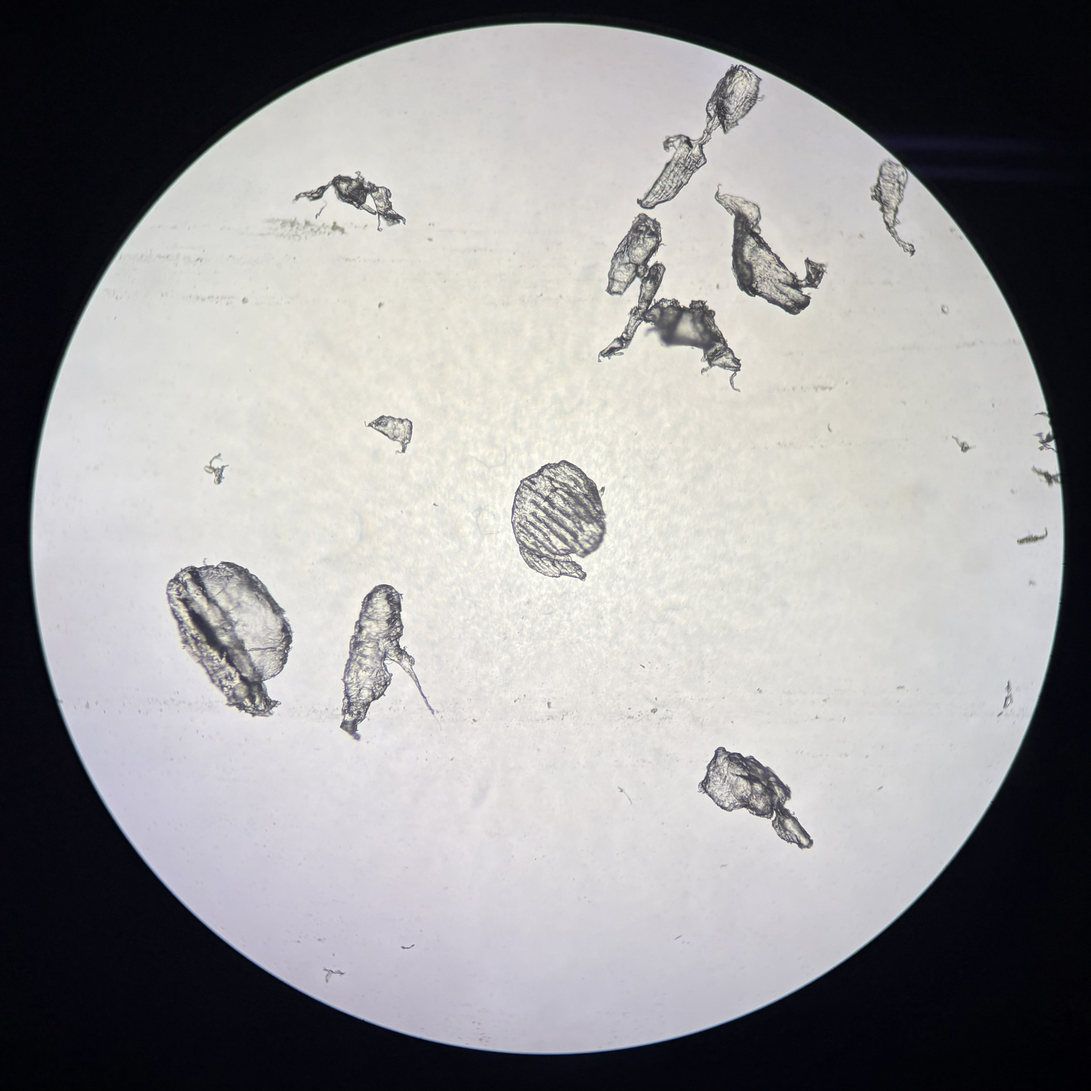microplastic: (599, 213, 742, 393), (165, 559, 292, 717), (636, 63, 765, 209), (341, 585, 438, 741), (715, 185, 828, 317), (699, 747, 813, 850), (512, 462, 607, 580), (294, 170, 407, 232), (871, 161, 914, 257), (364, 411, 412, 454), (203, 455, 226, 486), (1031, 467, 1063, 489), (1016, 528, 1049, 545), (998, 681, 1012, 718), (1033, 434, 1055, 453), (952, 436, 976, 452), (1034, 412, 1052, 427)
